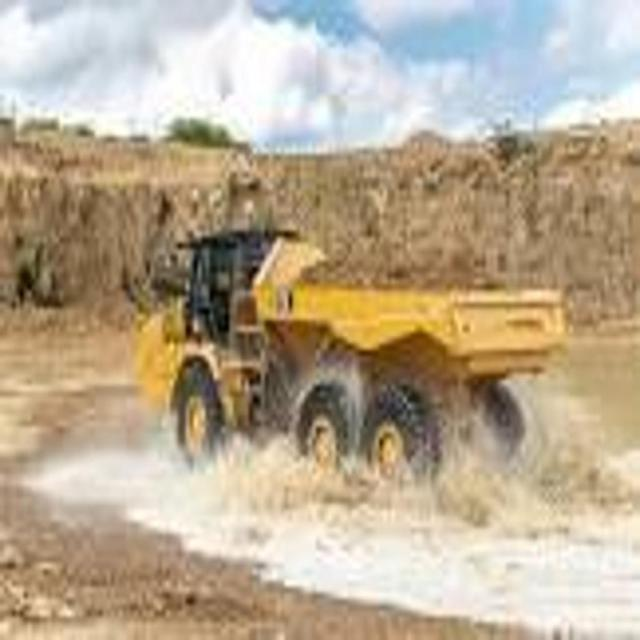dump_truck: (136, 204, 563, 542)
